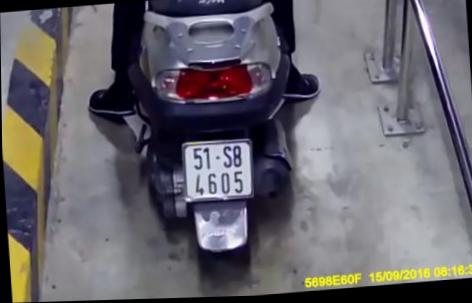LP: (179, 135, 256, 205)
